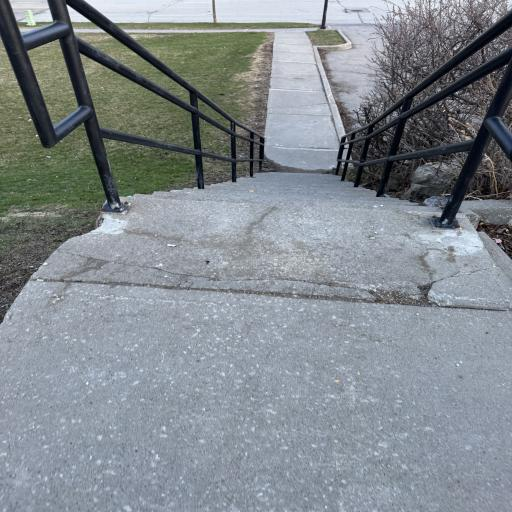Stairs: (0, 173, 512, 512)
